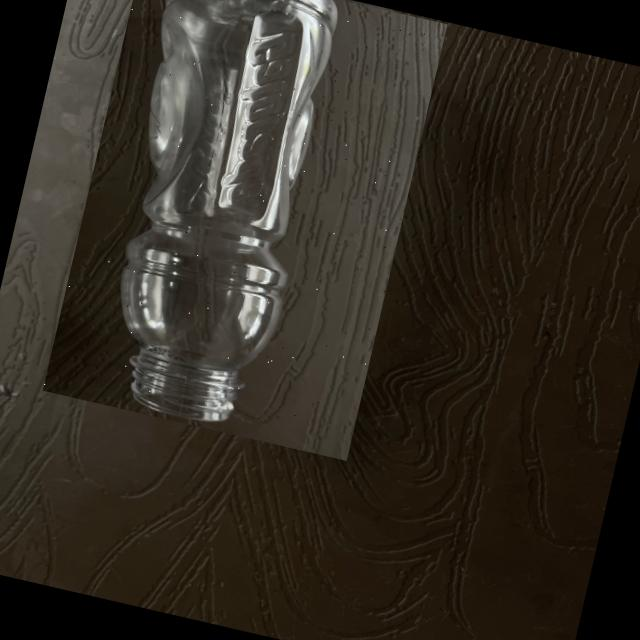PET_ClearBottle: (41, 0, 446, 459)
